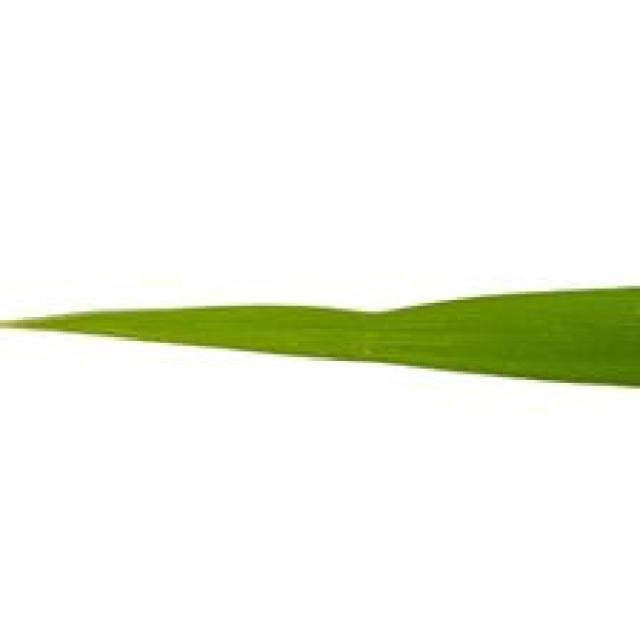Rice___Healthy_Rice_Plant: (0, 287, 637, 388)
